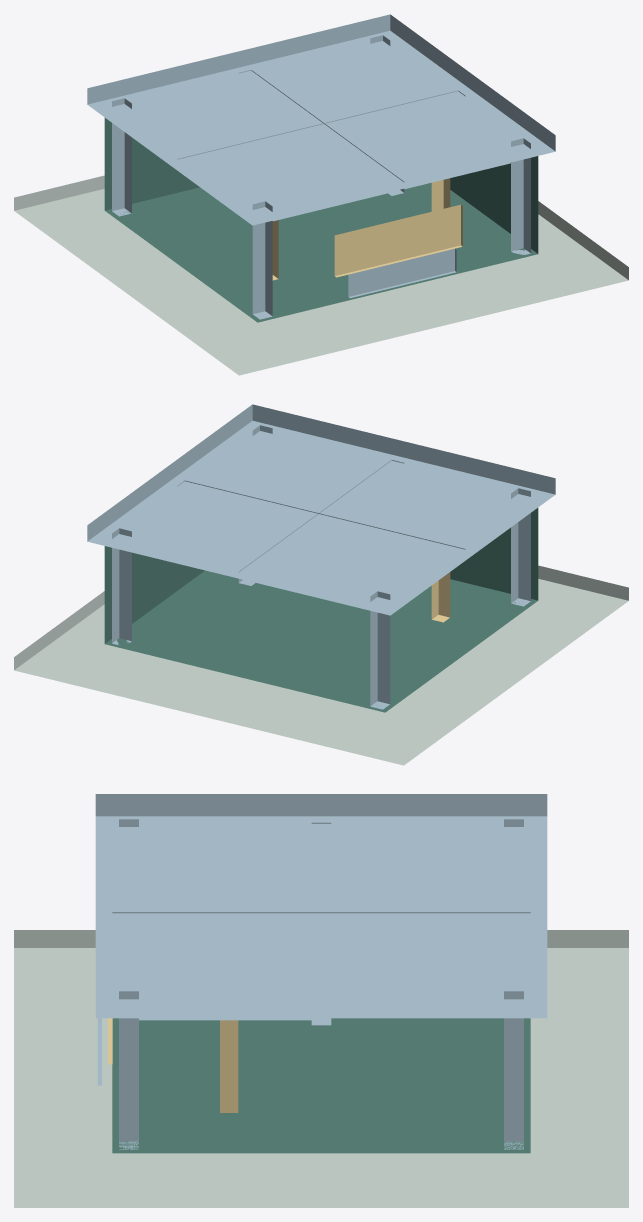
File: bus_stop.glb
3 renders of one model, top to bottom at view 1: azimuth 30°, elevation 25°; view 2: azimuth 150°, elevation 25°; view 3: azimuth 270°, elevation 25°, orthographic. The views are drawn at different scales.
Parts seen in each view (by area): view 1: Roof, Foundation, Walls, Details, Frame; view 2: Roof, Walls, Foundation, Frame, Details; view 3: Roof, Foundation, Walls, Frame, Details.
Boxes of the visible parts, <box> form: Roof: <box>87,14,555,225</box>; Foundation: <box>14,175,628,375</box>; Walls: <box>104,118,538,322</box>; Details: <box>272,162,511,298</box>; Frame: <box>112,35,530,319</box>; Roof: <box>87,404,555,615</box>; Walls: <box>104,508,538,712</box>; Foundation: <box>14,565,628,765</box>; Frame: <box>112,425,530,709</box>; Details: <box>431,572,450,622</box>; Roof: <box>95,794,547,1018</box>; Foundation: <box>14,930,628,1207</box>; Walls: <box>112,1018,530,1153</box>; Frame: <box>112,819,530,1149</box>; Details: <box>97,1018,311,1112</box>.
Size of the model in its own units: 20 by 6.56 by 20.
